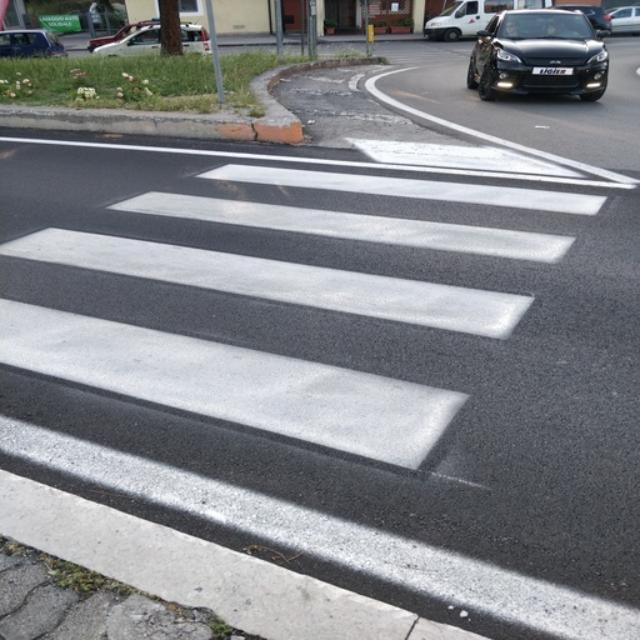sidewalk: (0, 159, 617, 479)
